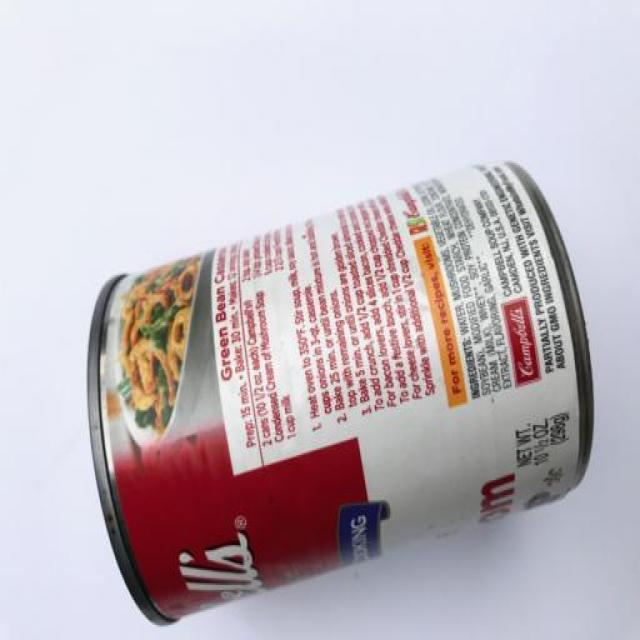metel: (91, 210, 582, 567)
